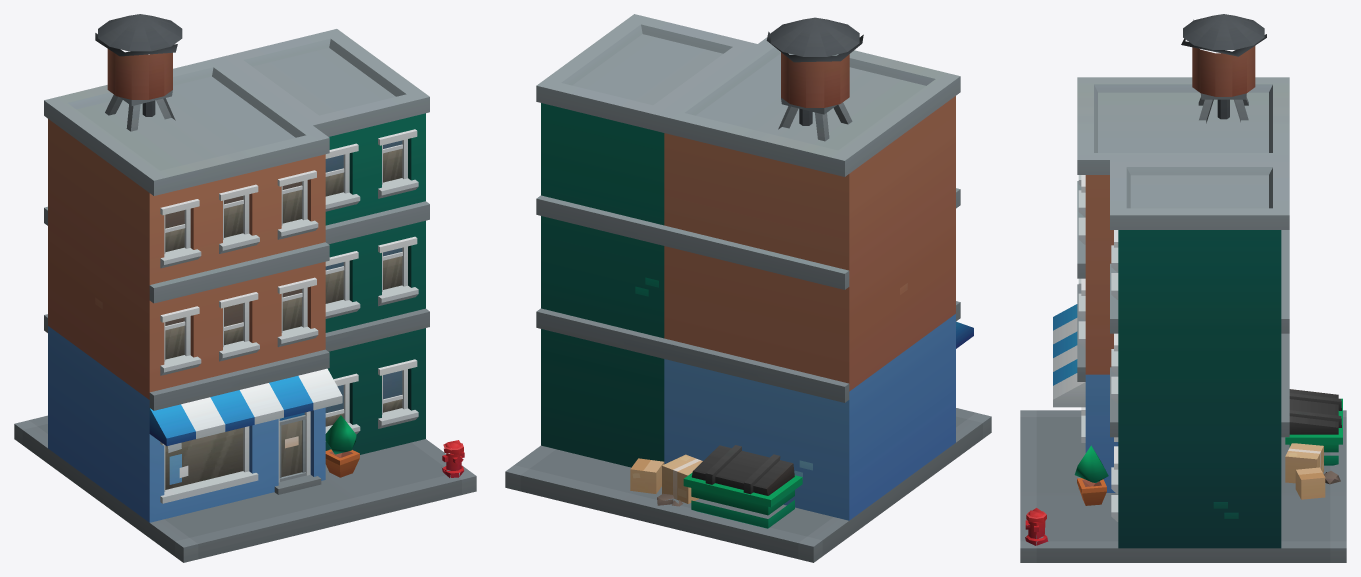
Rendered from gedung-4.glb.
The picture shows the model from 3 angles, left to right: view 1: azimuth 30°, elevation 25°; view 2: azimuth 150°, elevation 25°; view 3: azimuth 270°, elevation 25°; orthographic projection. The views are drawn at different scales.
Parts seen in each view (by area): view 1: building_G; view 2: building_G; view 3: building_G.
Part boxes in pixels (box(x1,y1,x2,y2)): building_G: box(14, 14, 476, 562); building_G: box(505, 14, 991, 562); building_G: box(1020, 14, 1346, 562).
Bounding box in the file's own units: 22.92 × 34 × 22.85.
1 material, 1 textured.
